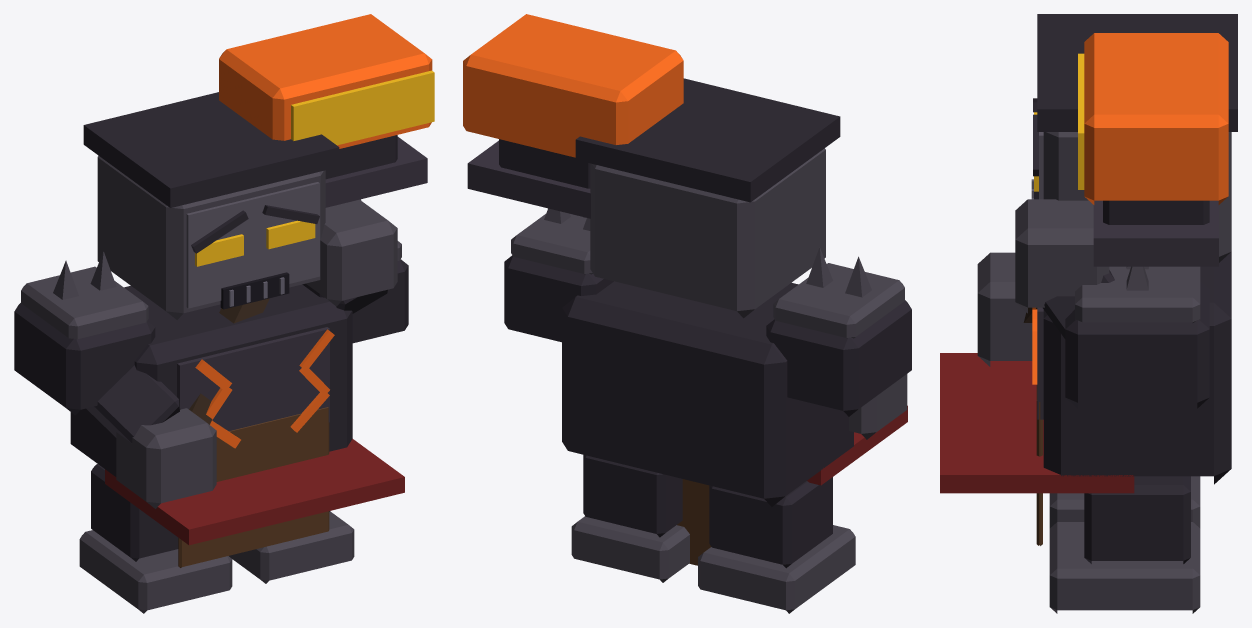
Rendered from r3_mini_forge_smasher.glb.
3 views of the same model, side by side, from view 1: azimuth 30°, elevation 25°; view 2: azimuth 150°, elevation 25°; view 3: azimuth 270°, elevation 25° (orthographic). The views are drawn at different scales.
Parts seen in each view (by area): view 1: r3_mini_forge_smasher_mesh; view 2: r3_mini_forge_smasher_mesh; view 3: r3_mini_forge_smasher_mesh.
Boxes of the visible parts, <box> form: r3_mini_forge_smasher_mesh: <box>14,14,434,613</box>; r3_mini_forge_smasher_mesh: <box>463,14,911,613</box>; r3_mini_forge_smasher_mesh: <box>940,14,1237,613</box>.
Bounding box in the file's own units: 3.69 × 4.5 × 2.2.
1 material, 1 textured.
